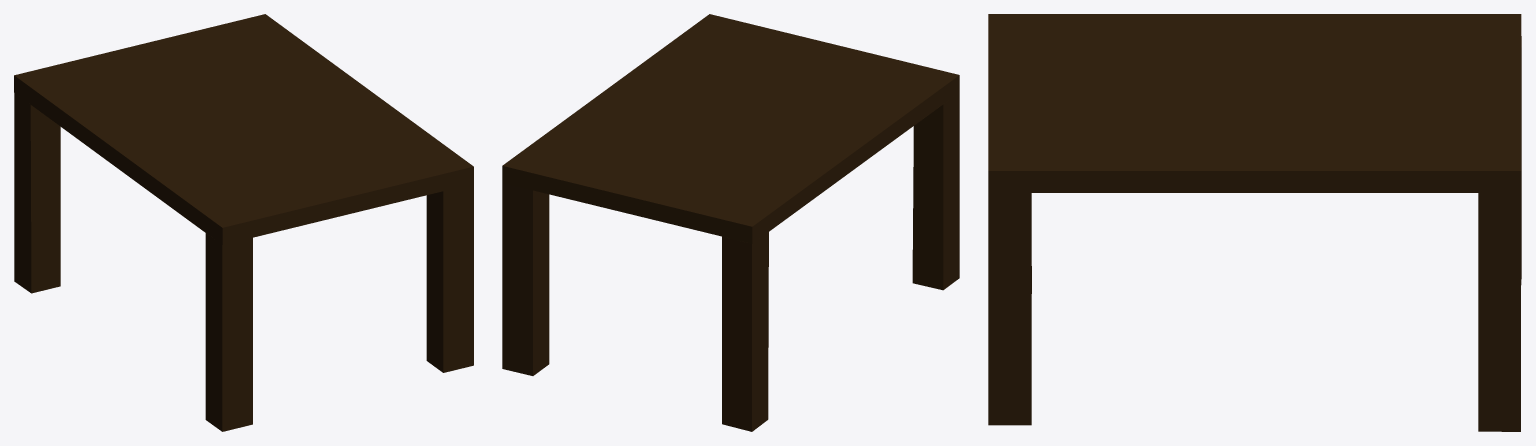
File: Eettafel.fbx
3 renders of one model, left to right at view 1: azimuth 30°, elevation 25°; view 2: azimuth 150°, elevation 25°; view 3: azimuth 270°, elevation 25°, orthographic. The views are drawn at different scales.
Parts seen in each view (by area): view 1: Cube; view 2: Cube; view 3: Cube.
Part boxes in pixels (x1,y1,x2,y2): Cube: (14, 14, 473, 431); Cube: (502, 14, 959, 431); Cube: (988, 14, 1521, 431).
Bounding box in the file's own units: 200 × 157 × 287.
